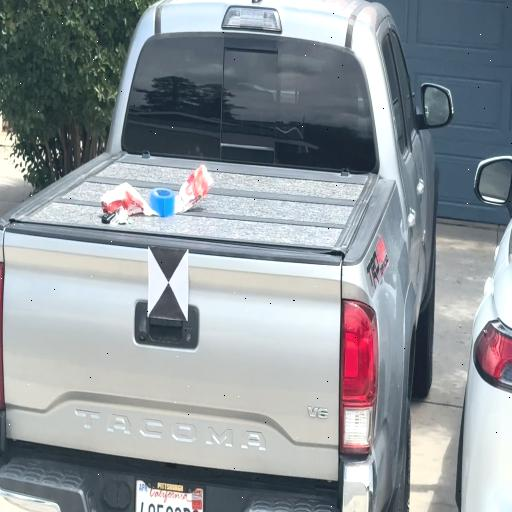target: (147, 247, 189, 320)
